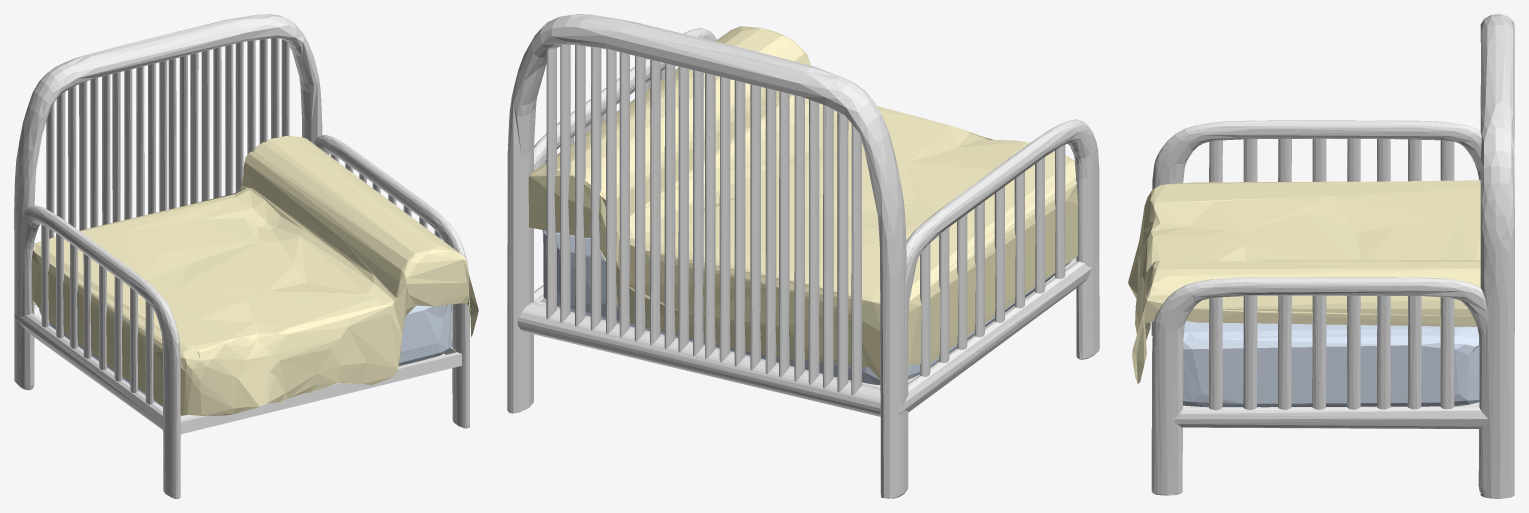
File: sh-contrib-trundle-bed.glb
3 views of the same model, side by side, from view 1: azimuth 30°, elevation 25°; view 2: azimuth 150°, elevation 25°; view 3: azimuth 270°, elevation 25° (orthographic). The views are drawn at different scales.
Visible parts, largest first — view 1: Blanket, Extruded_Object_1, PolyMesh_1, mattress; view 2: Extruded_Object_1, Blanket, mattress; view 3: Extruded_Object_1, Blanket, mattress.
Boxes of the visible parts, <box> form: Blanket: <box>31,135,478,415</box>; Extruded_Object_1: <box>14,14,469,498</box>; PolyMesh_1: <box>34,312,461,434</box>; mattress: <box>39,304,451,415</box>; Extruded_Object_1: <box>507,14,1099,498</box>; Blanket: <box>528,26,1077,378</box>; mattress: <box>542,230,1071,384</box>; Extruded_Object_1: <box>1151,14,1514,498</box>; Blanket: <box>1128,180,1480,383</box>; mattress: <box>1183,321,1479,407</box>.
Size of the model in its own units: 1 by 1 by 1.
